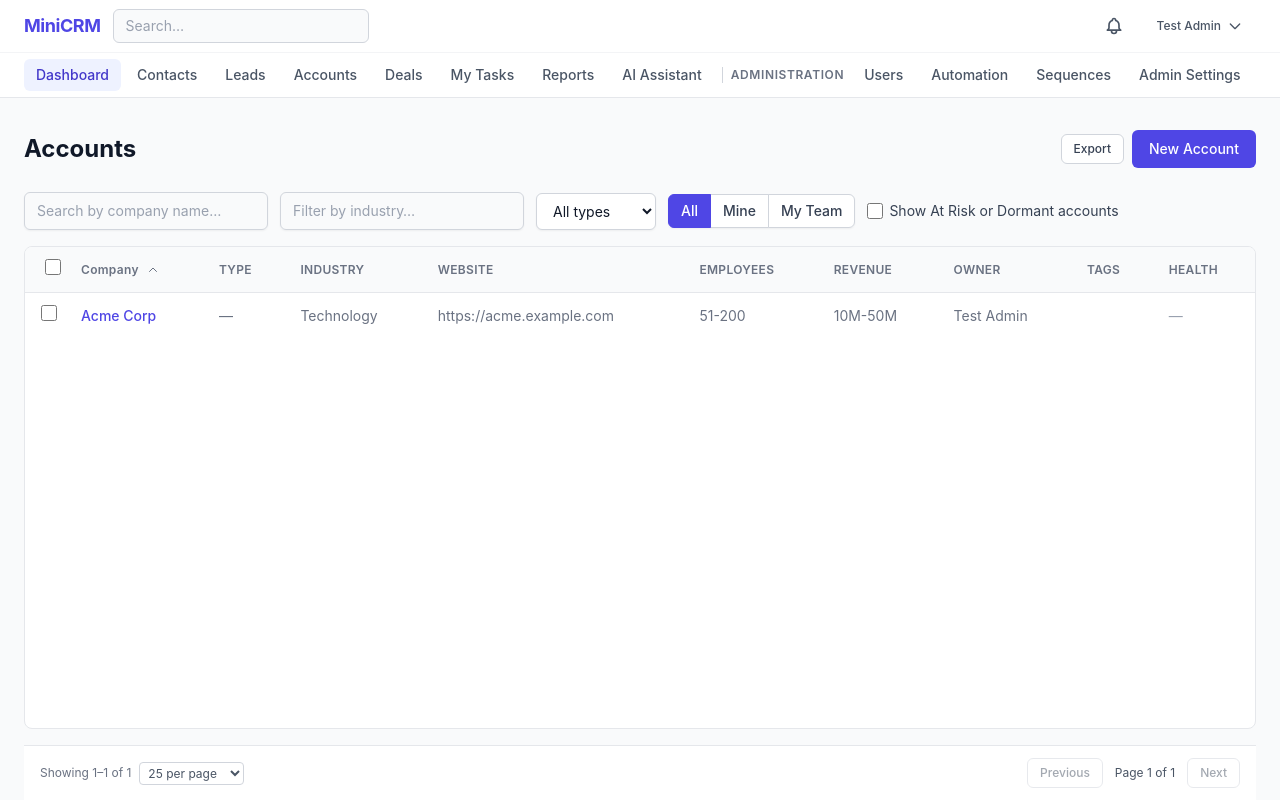
Test: AccountsPage › shows the create form when New Account is clicked
Step 1. Click the button with test id "new-account-button" → (1194, 149), box [1132,130,1256,168]
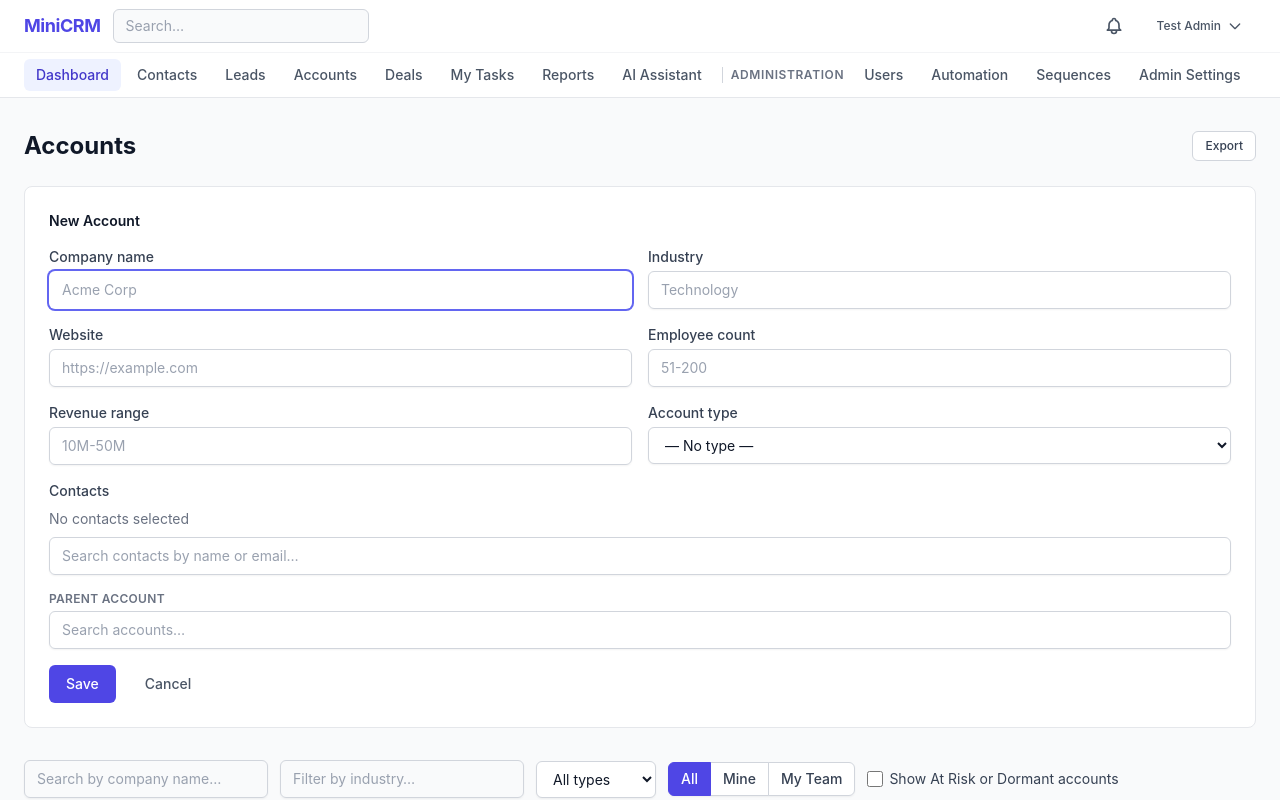
Result: the form with test id "account-form" is shown at [49,247,1231,703]
